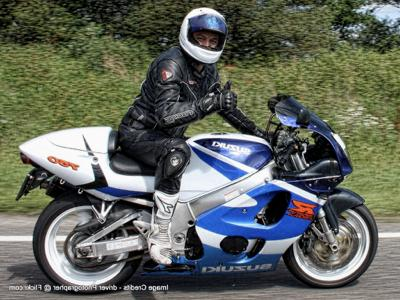With Helmet: (174, 7, 231, 67)
